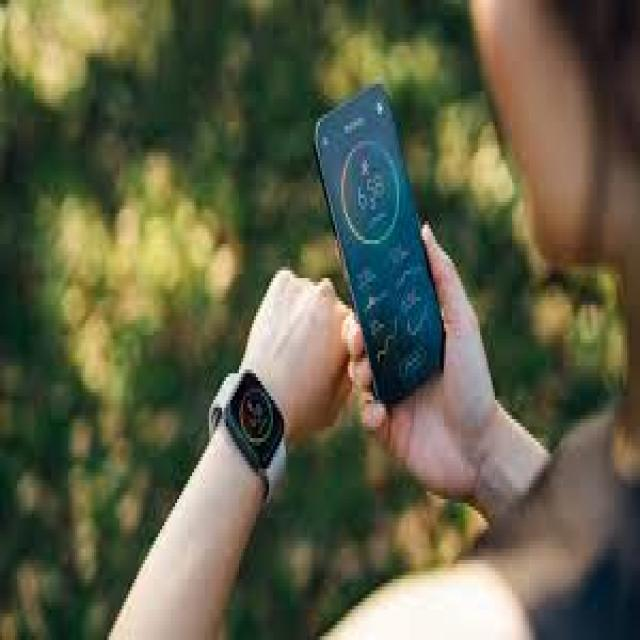objects: (205, 368, 290, 491)
